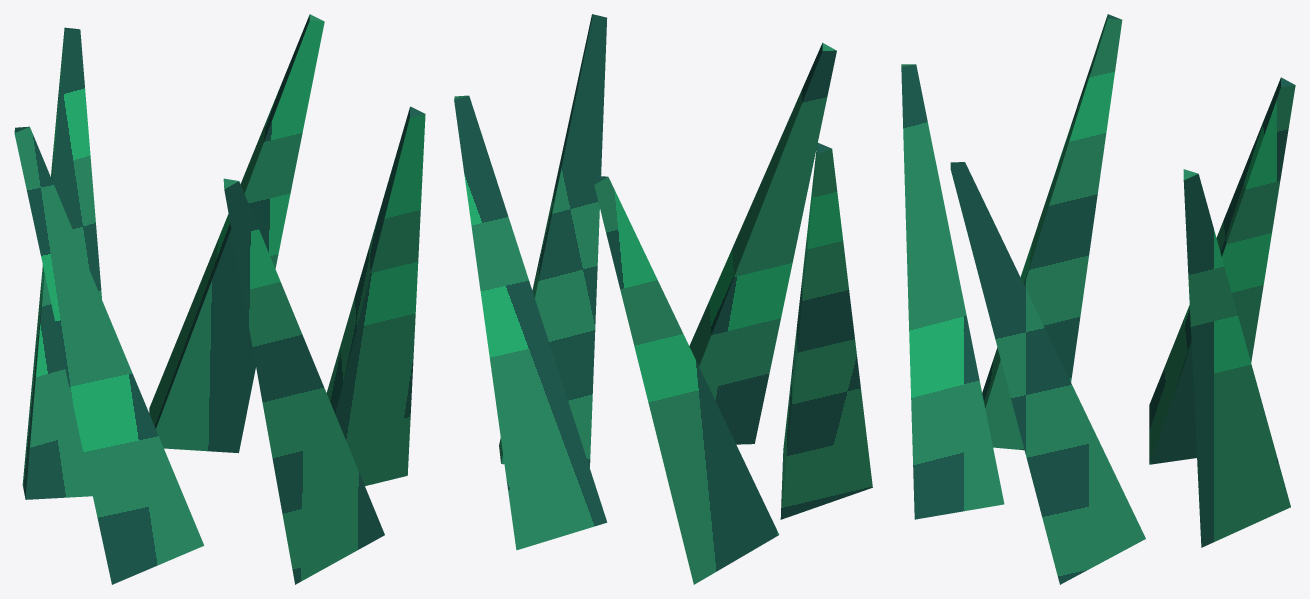
File: r03_erva.glb
3 renders of one model, left to right at view 1: azimuth 30°, elevation 25°; view 2: azimuth 150°, elevation 25°; view 3: azimuth 270°, elevation 25°, orthographic. The views are drawn at different scales.
Parts seen in each view (by area): view 1: r03_erva; view 2: r03_erva; view 3: r03_erva.
Part boxes in pixels (<box>): r03_erva: <box>14,14,425,584</box>; r03_erva: <box>454,14,872,584</box>; r03_erva: <box>901,14,1295,584</box>.
Bounding box in the file's own units: 0.4083 × 0.4502 × 0.3937.
1 material, 1 textured.
